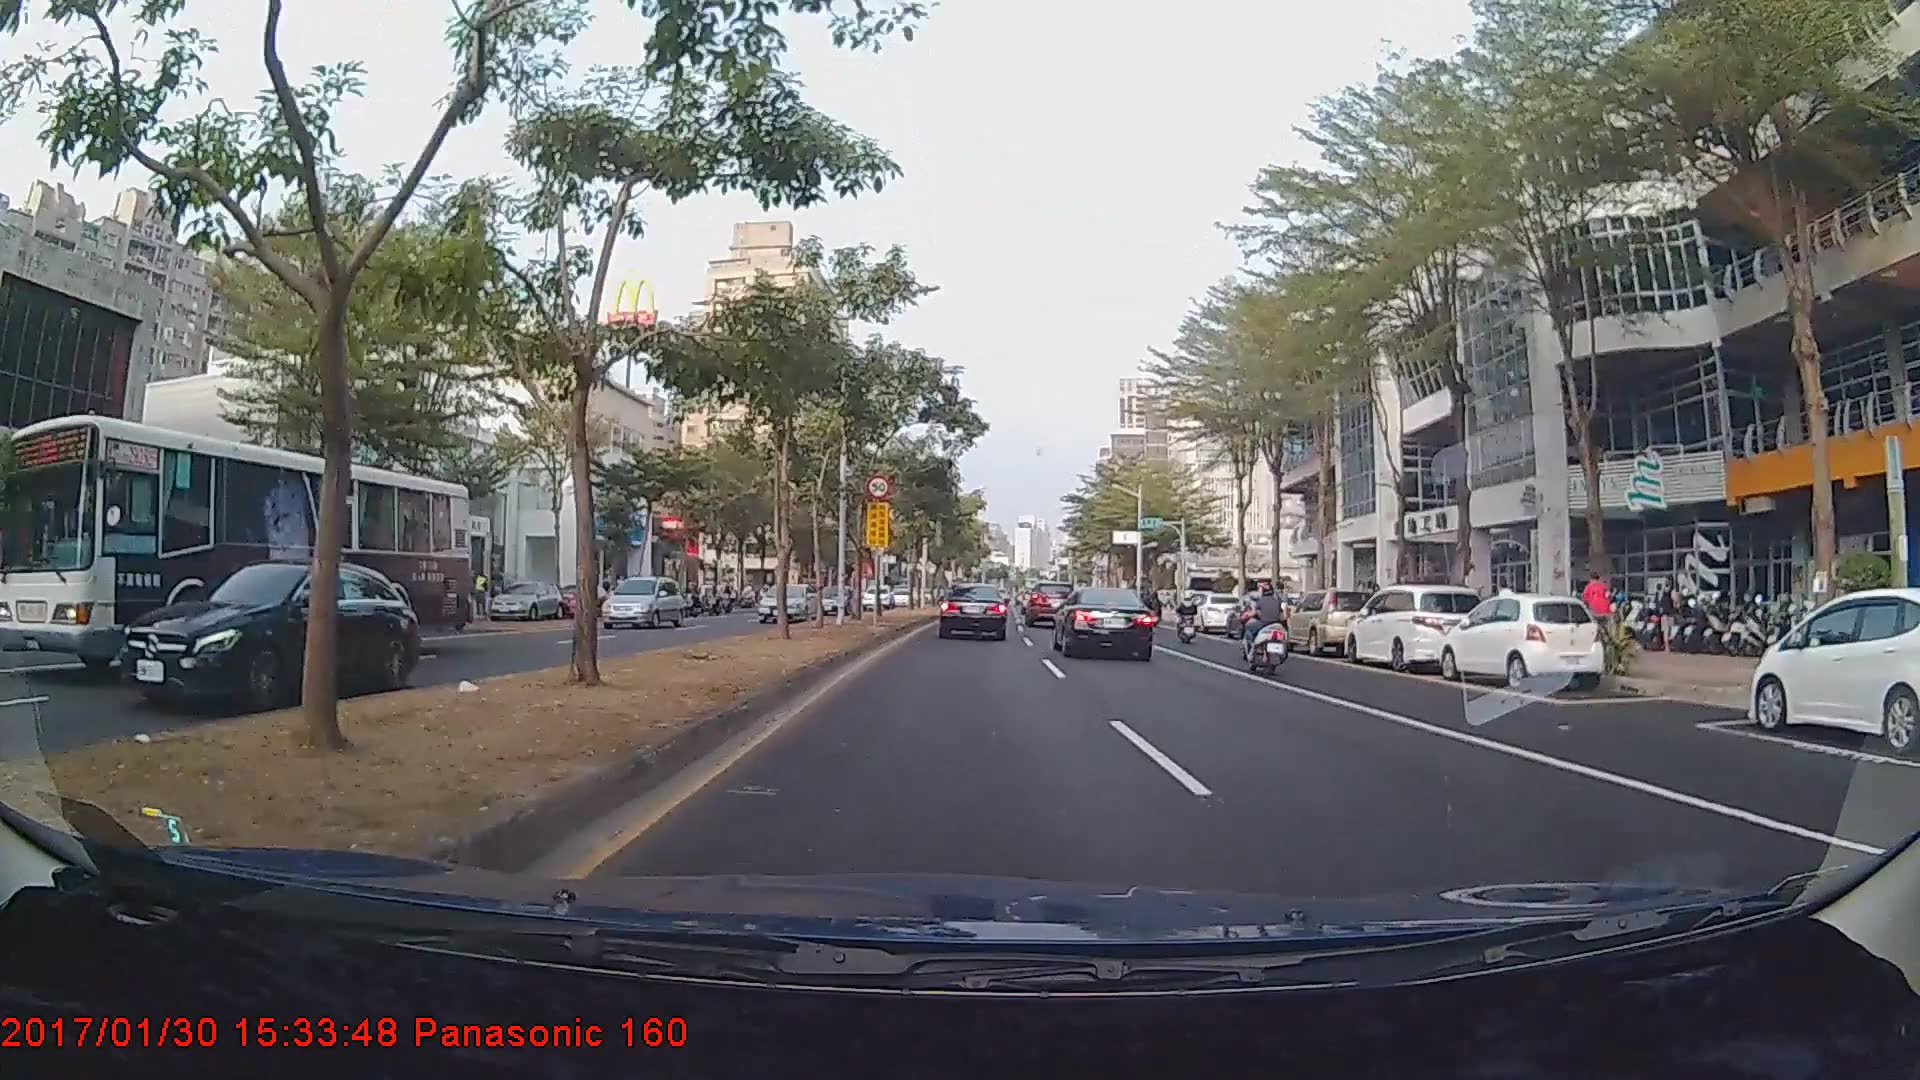rider: (1235, 582, 1303, 676), (1570, 566, 1623, 663), (1171, 589, 1202, 645)
vehicle: (0, 411, 475, 677), (117, 559, 426, 710), (1746, 583, 1920, 756), (1441, 594, 1598, 688), (1348, 583, 1487, 676), (1054, 584, 1156, 662), (1280, 587, 1382, 657), (599, 574, 681, 626), (938, 582, 1008, 640), (757, 582, 815, 621), (1189, 592, 1244, 634), (1024, 583, 1074, 628), (813, 583, 854, 614), (860, 584, 894, 611)
